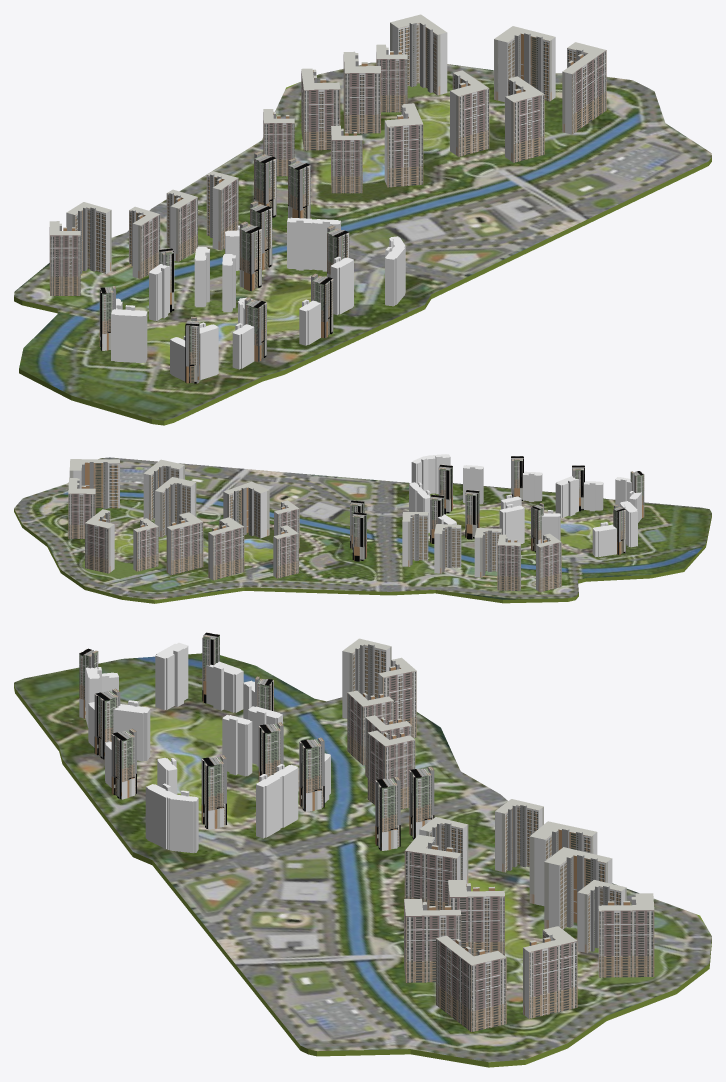
The model's file is ICJ00106_C.glb.
3 renders of one model, top to bottom at view 1: azimuth 30°, elevation 25°; view 2: azimuth 150°, elevation 25°; view 3: azimuth 270°, elevation 25°, orthographic. The views are drawn at different scales.
Visible parts, largest first — view 1: MainBuilding; view 2: MainBuilding; view 3: MainBuilding.
Boxes of the visible parts, x1,y1,x2,y2 form: MainBuilding: [14, 14, 711, 425]; MainBuilding: [14, 454, 711, 603]; MainBuilding: [14, 632, 711, 1067].
Bounding box in the file's own units: 4.52 × 0.3855 × 3.26.
Materials: 1 (1 with a texture image).
